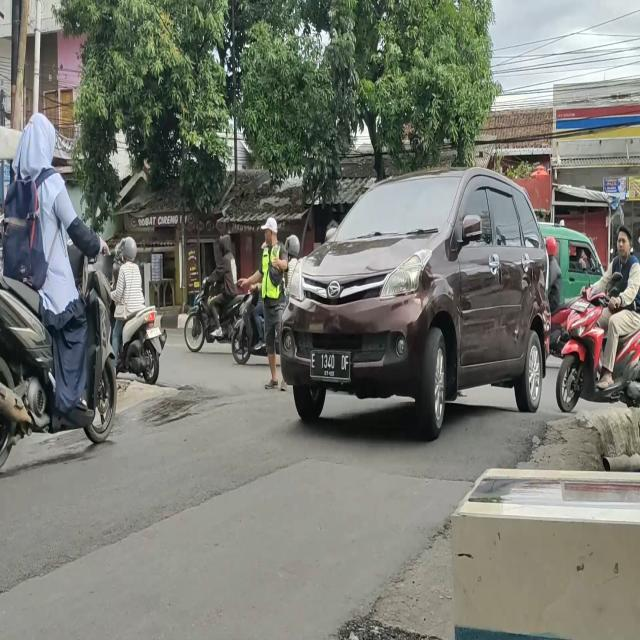helmet: (118, 236, 138, 264), (286, 234, 300, 256), (548, 234, 558, 258)
no-helmet: (22, 108, 56, 172), (615, 227, 632, 258), (218, 235, 232, 254)
